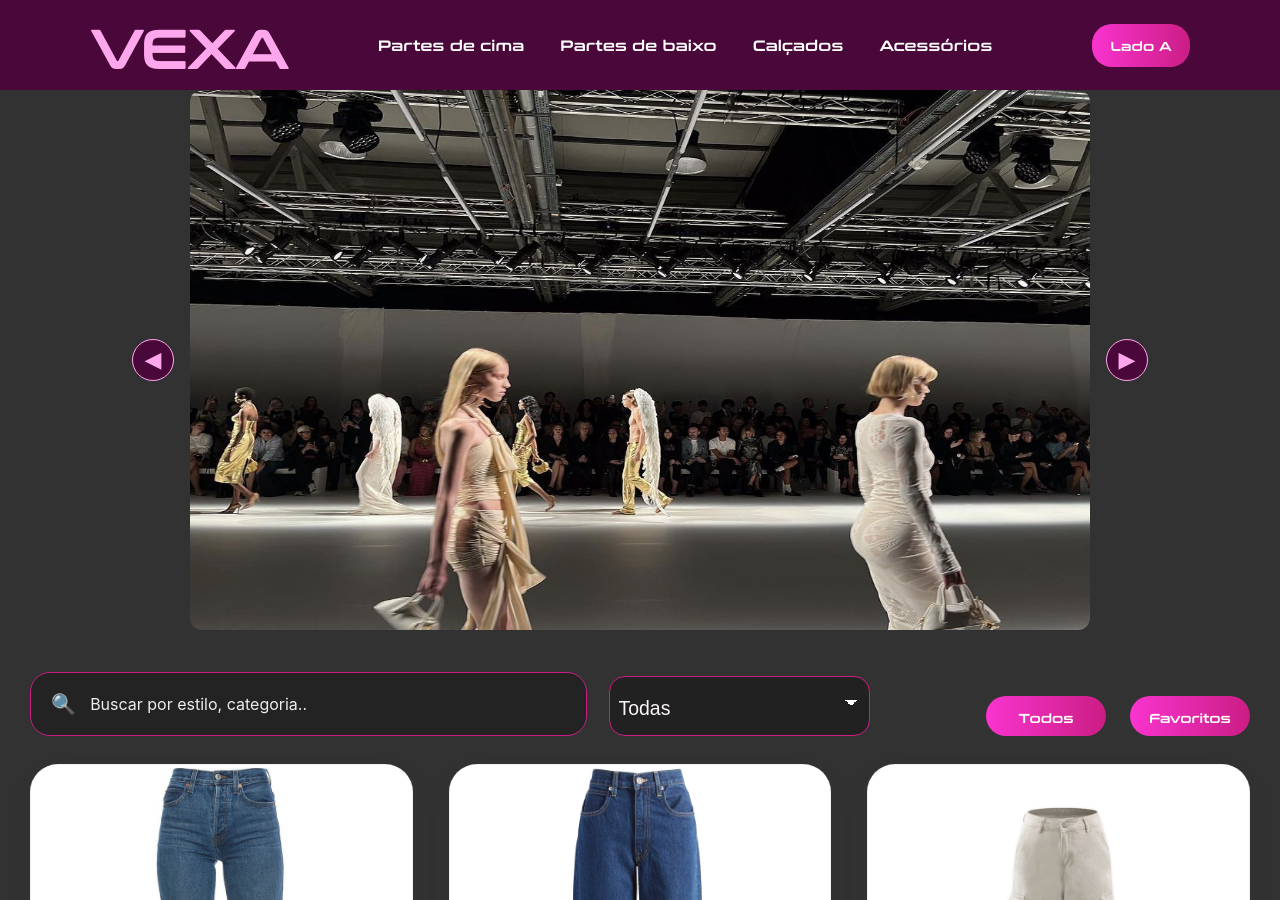
Scenario: Lado B – catálogo de roupas › filtra pela categoria Blusa
Step 1. Select "Blusa" in the dropdown → (739, 706), box [608,676,870,736]
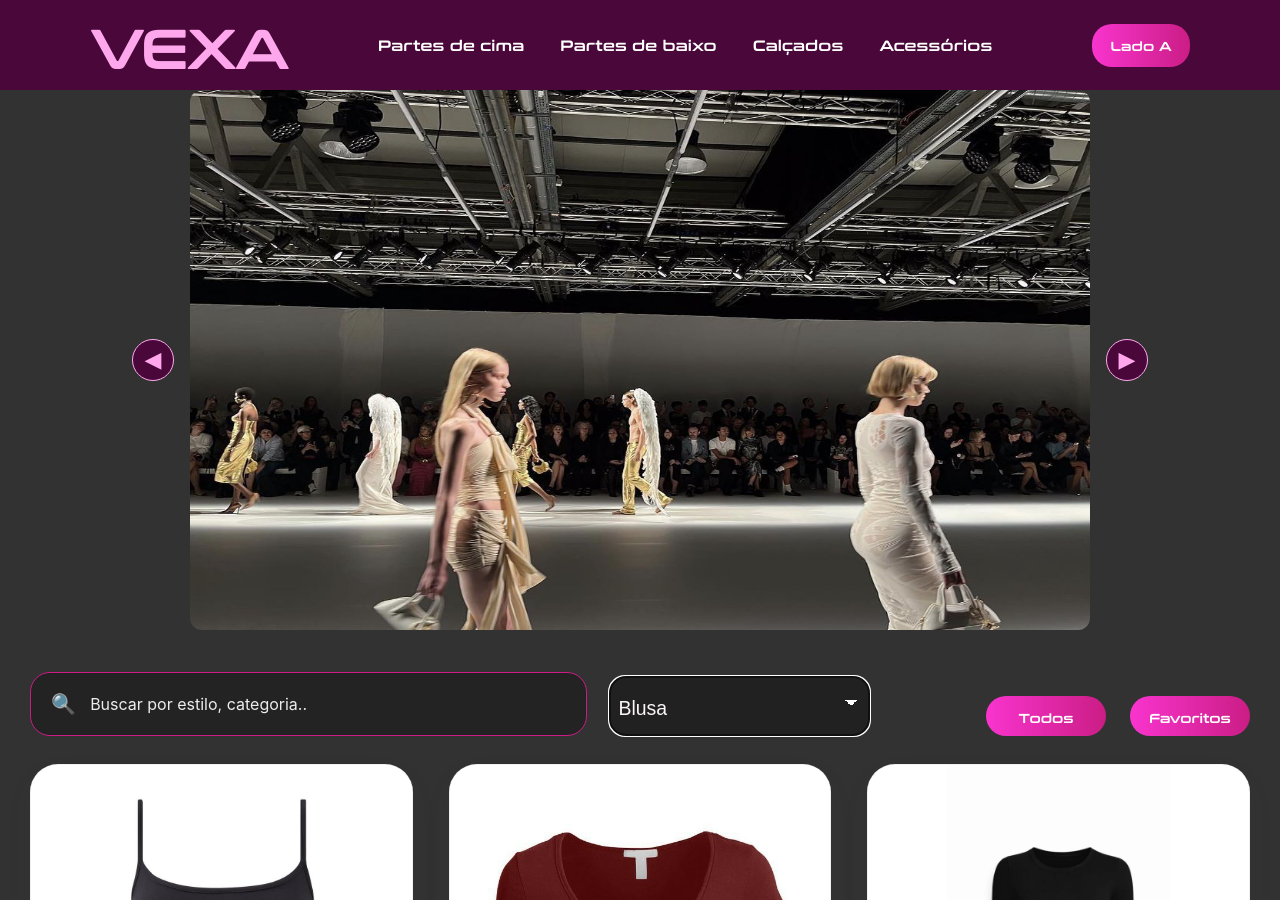
Now the number of elements with class "card-roupa" is 5
